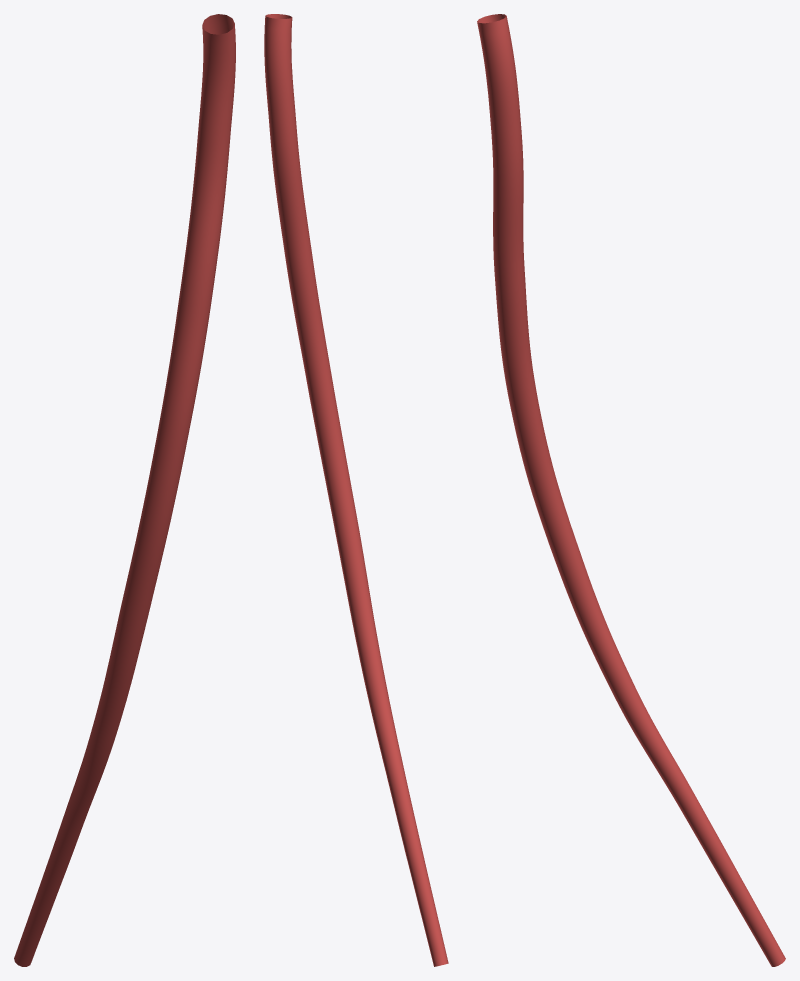
3 renders of one model, left to right at view 1: azimuth 30°, elevation 25°; view 2: azimuth 210°, elevation 25°; view 3: azimuth 270°, elevation 25°, orthographic. The views are drawn at different scales.
Parts seen in each view (by area): view 1: 右侧足底内侧动脉浅支; view 2: 右侧足底内侧动脉浅支; view 3: 右侧足底内侧动脉浅支.
Part boxes in pixels (bbox=[...]): 右侧足底内侧动脉浅支: bbox=[14, 14, 235, 966]; 右侧足底内侧动脉浅支: bbox=[264, 14, 448, 966]; 右侧足底内侧动脉浅支: bbox=[477, 14, 785, 966].
Size of the model in its own units: 0.00697 by 0.0937 by 0.0271.
